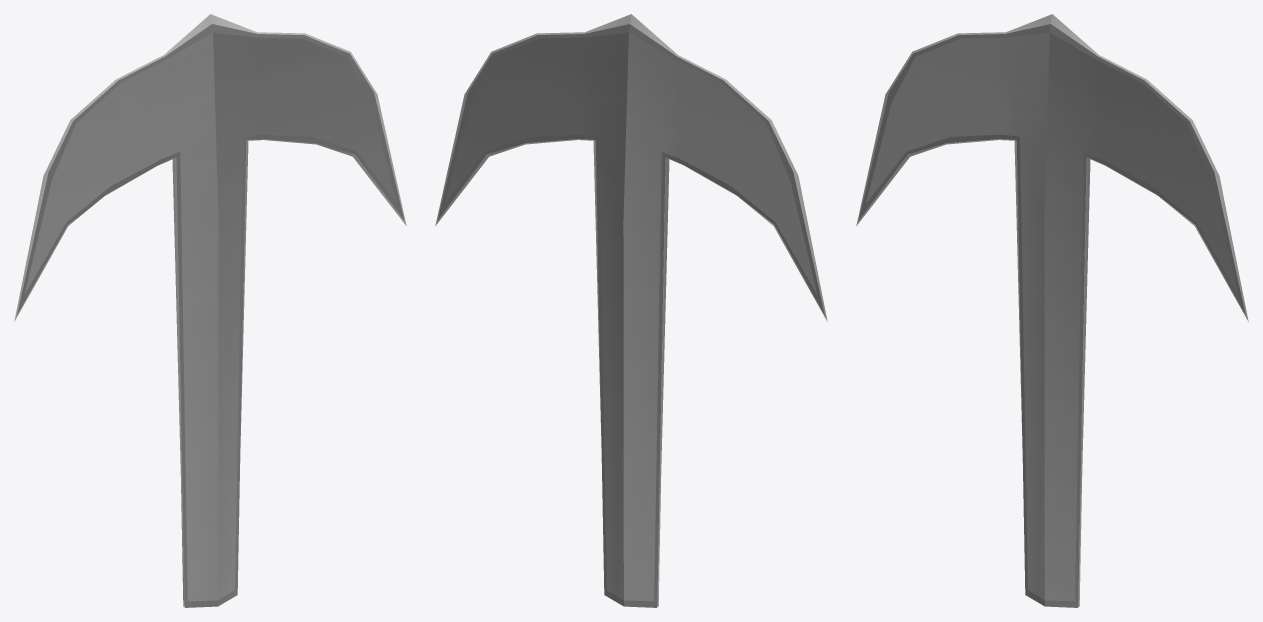
Rendered from stone_blade (9).glb.
3 renders of one model, left to right at view 1: azimuth 30°, elevation 25°; view 2: azimuth 150°, elevation 25°; view 3: azimuth 330°, elevation 25°, orthographic.
Visible parts, largest first — view 1: stone_blade_unscratched.029; view 2: stone_blade_unscratched.029; view 3: stone_blade_unscratched.029.
Part boxes in pixels (x1=…): stone_blade_unscratched.029: x1=14, y1=14, x2=406, y2=607; stone_blade_unscratched.029: x1=435, y1=14, x2=827, y2=607; stone_blade_unscratched.029: x1=856, y1=14, x2=1248, y2=607.
Bounding box in the file's own units: 8.24 × 11.78 × 0.5834.
Materials: 1 (1 with a texture image).
